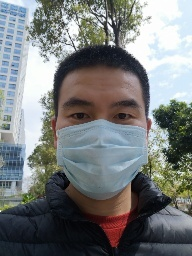correctlyWear: (51, 85, 152, 201)
